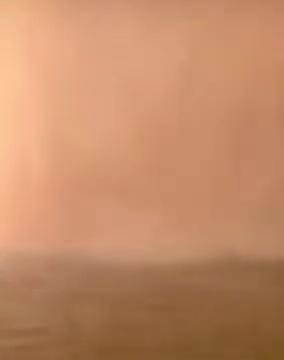smoke: (25, 70, 269, 240)
